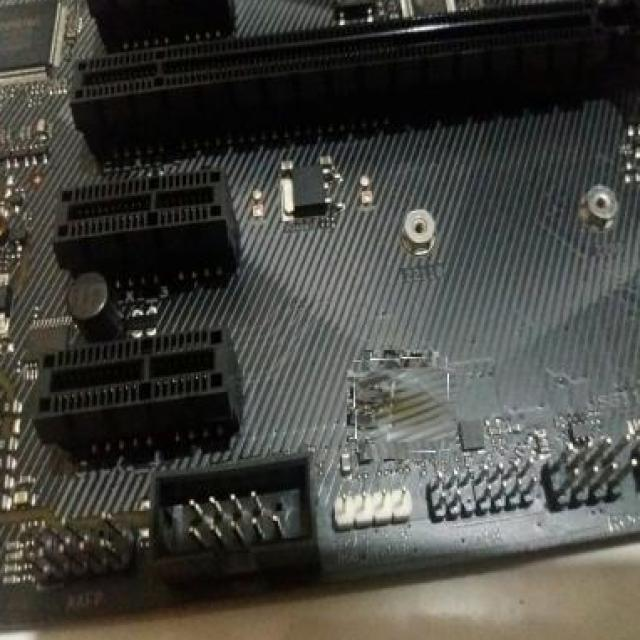Burn: (354, 358, 450, 453)
